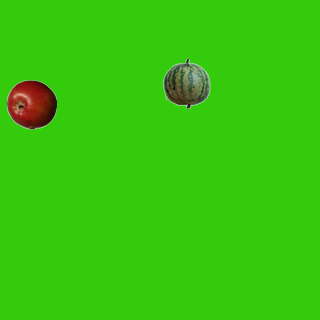Apple Braeburn: (6, 79, 56, 129)
Watermelon: (161, 58, 211, 108)
